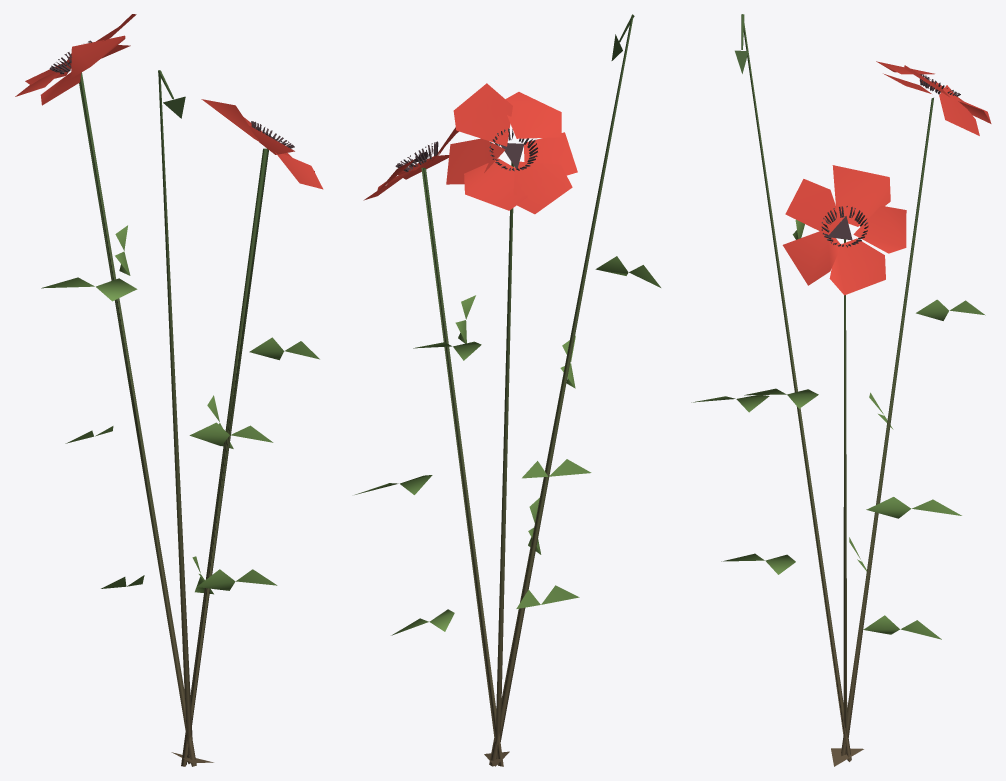
Rendered from Poppy_lod2.glb.
3 views of the same model, side by side, from view 1: azimuth 30°, elevation 25°; view 2: azimuth 150°, elevation 25°; view 3: azimuth 270°, elevation 25° (orthographic). The views are drawn at different scales.
Visible parts, largest first — view 1: Plant_LOD2; view 2: Plant_LOD2; view 3: Plant_LOD2.
Boxes of the visible parts, x1,y1,x2,y2 form: Plant_LOD2: (15,14,323,766); Plant_LOD2: (355,14,660,766); Plant_LOD2: (691,14,991,766).
Bounding box in the file's own units: 0.2717 × 0.6916 × 0.2671.
